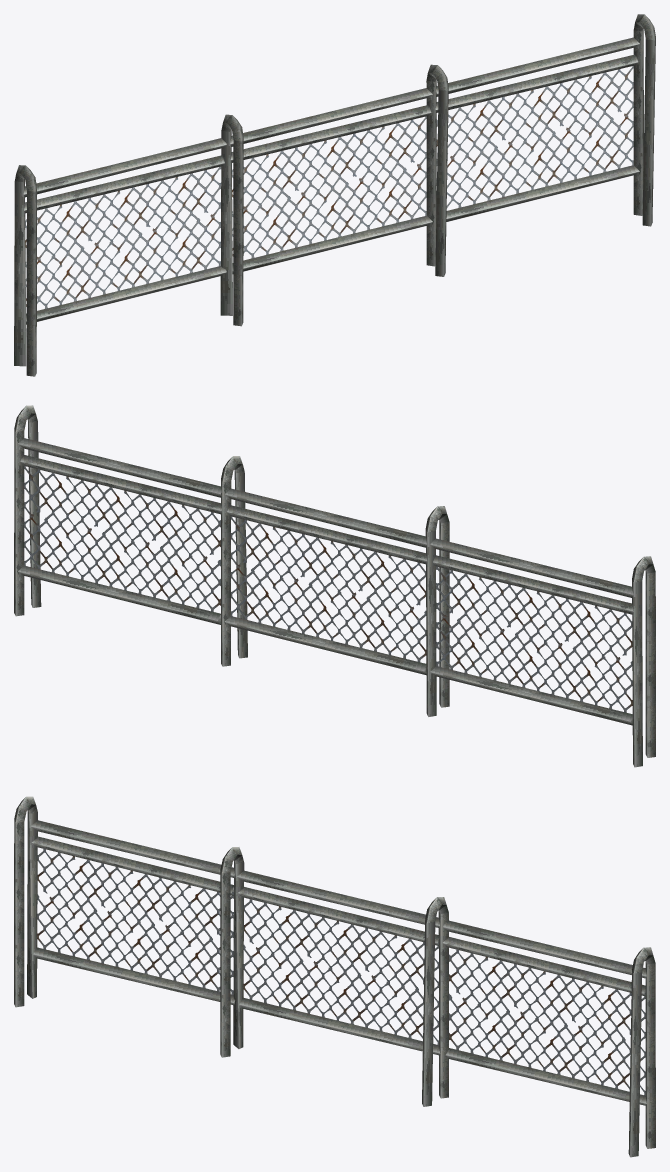
Rendered from C2SMHIGHFENCEH.obj.
3 renders of one model, top to bottom at view 1: azimuth 30°, elevation 25°; view 2: azimuth 150°, elevation 25°; view 3: azimuth 330°, elevation 25°, orthographic.
Parts seen in each view (by area): view 1: Node 0; view 2: Node 0; view 3: Node 0.
Boxes of the visible parts, x1=… form: Node 0: x1=14, y1=14, x2=655, y2=376; Node 0: x1=14, y1=405, x2=655, y2=767; Node 0: x1=14, y1=796, x2=655, y2=1157.
Bounding box in the file's own units: 32.79 × 10.15 × 1.8.
2 materials, 2 textured.
